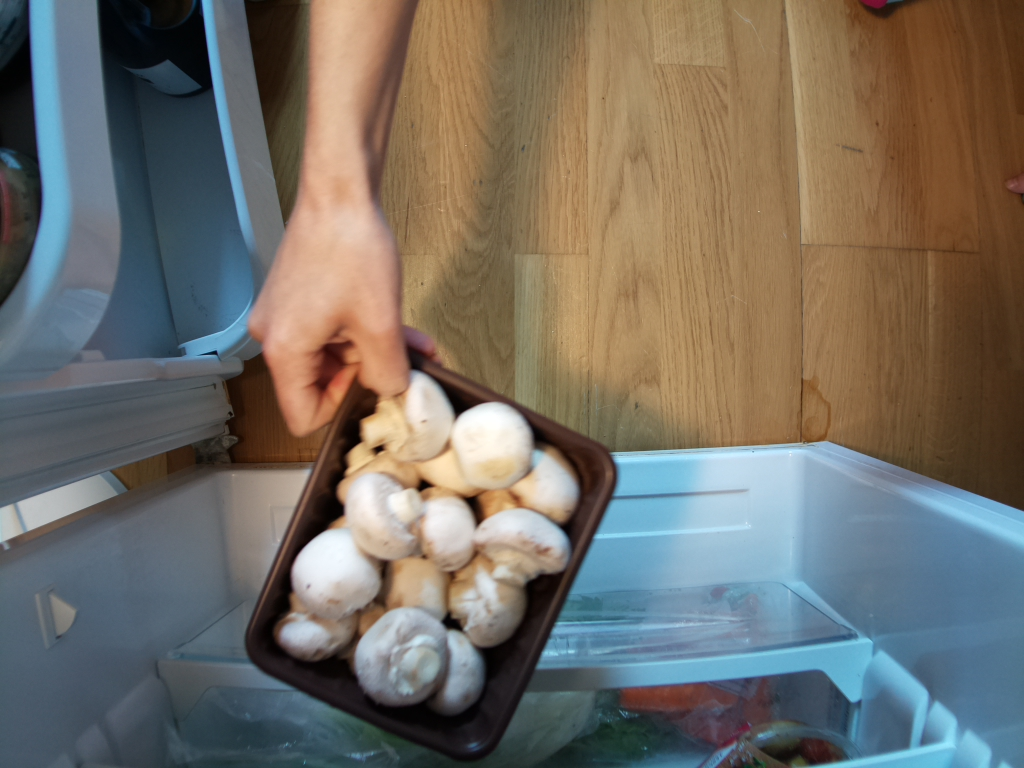mushrooms: (241, 323, 627, 767)
